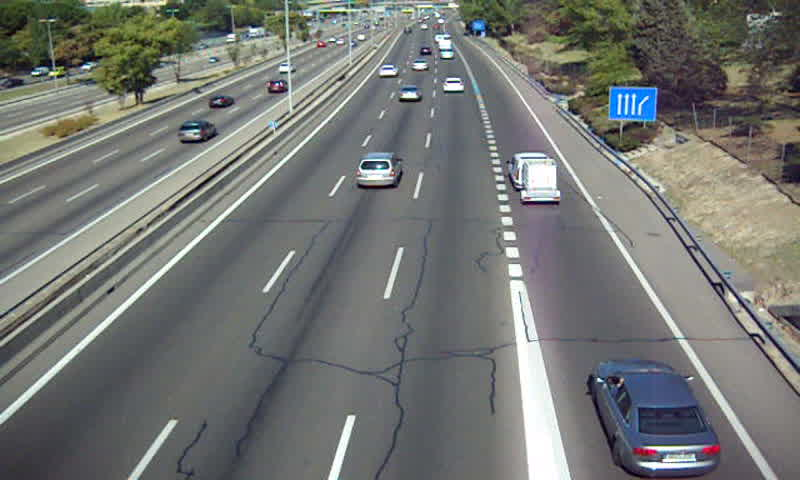car: (591, 359, 721, 475), (356, 152, 402, 188), (396, 85, 423, 103), (443, 78, 465, 94), (411, 58, 430, 73), (379, 63, 398, 78), (440, 49, 455, 60)
van: (507, 152, 550, 189)
